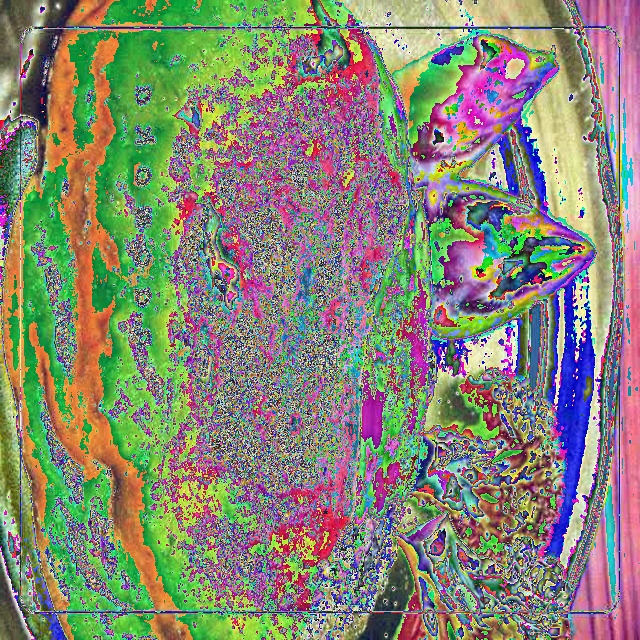background: (2, 0, 597, 640)
